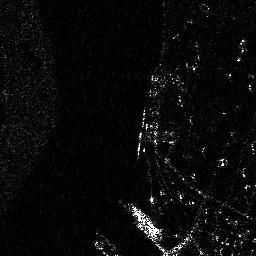ship: (121, 199, 162, 242)
